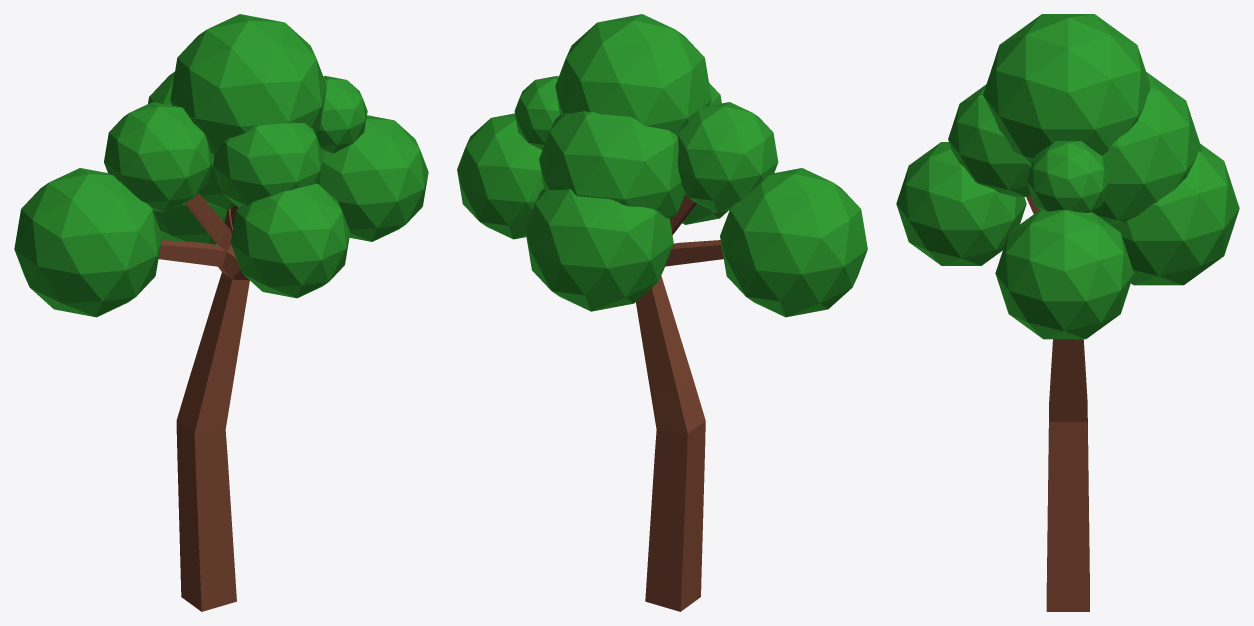
Rendered from tree2.fbx.
3 views of the same model, side by side, from view 1: azimuth 30°, elevation 25°; view 2: azimuth 150°, elevation 25°; view 3: azimuth 270°, elevation 25° (orthographic). The views are drawn at different scales.
Parts seen in each view (by area): view 1: 平面.002; view 2: 平面.002; view 3: 平面.002.
Part boxes in pixels (box(x1,y1,x2,y2)): 平面.002: box(14, 14, 428, 611); 平面.002: box(457, 14, 867, 611); 平面.002: box(896, 14, 1239, 611).
Size of the model in its own units: 1894 by 2640 by 1353.
